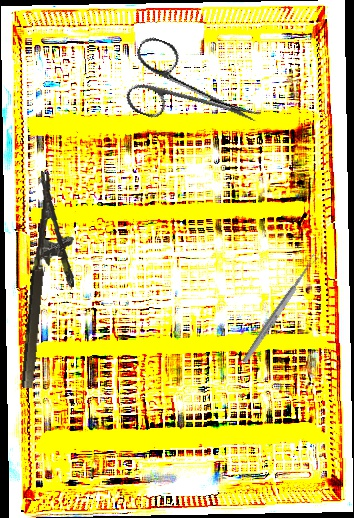Iris Scissors: (118, 34, 272, 152)
Needle Holder: (18, 171, 86, 392)
Surgical Spoon: (240, 253, 320, 365)
